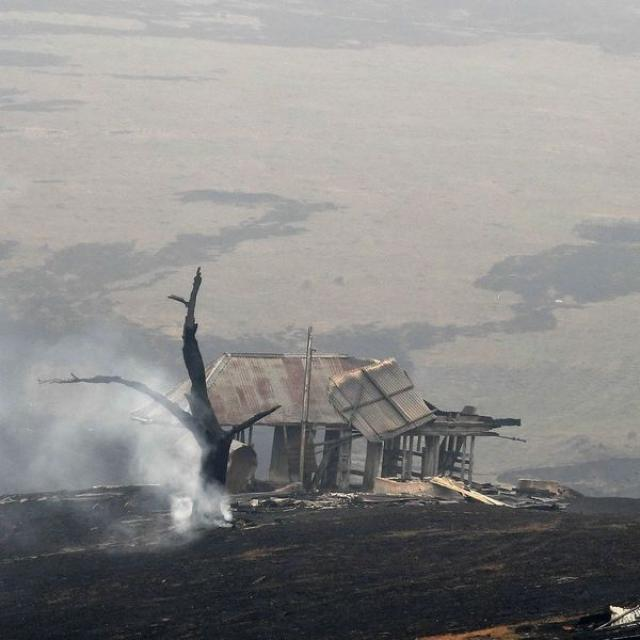Smoke: (0, 321, 234, 568)
